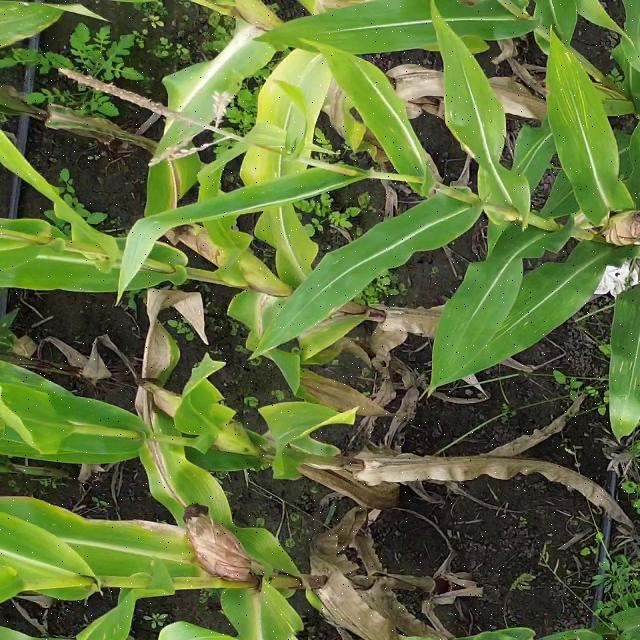gray-leaf-spot: (447, 283, 582, 346), (532, 45, 606, 158), (596, 306, 640, 421)
northern-leaf-blight: (116, 337, 213, 502), (212, 271, 273, 356)
southern-leaf-blight: (0, 0, 108, 61)
